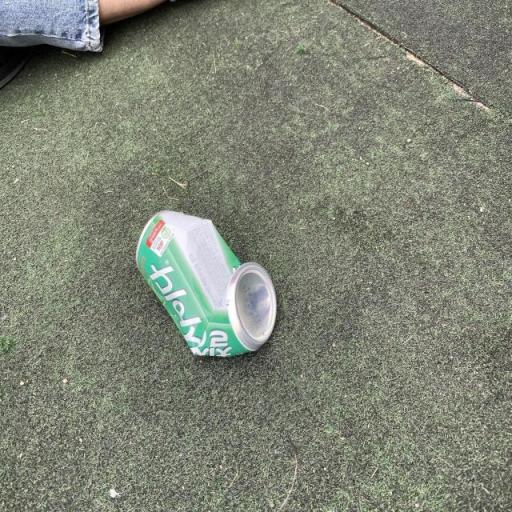metal: (124, 181, 288, 394)
